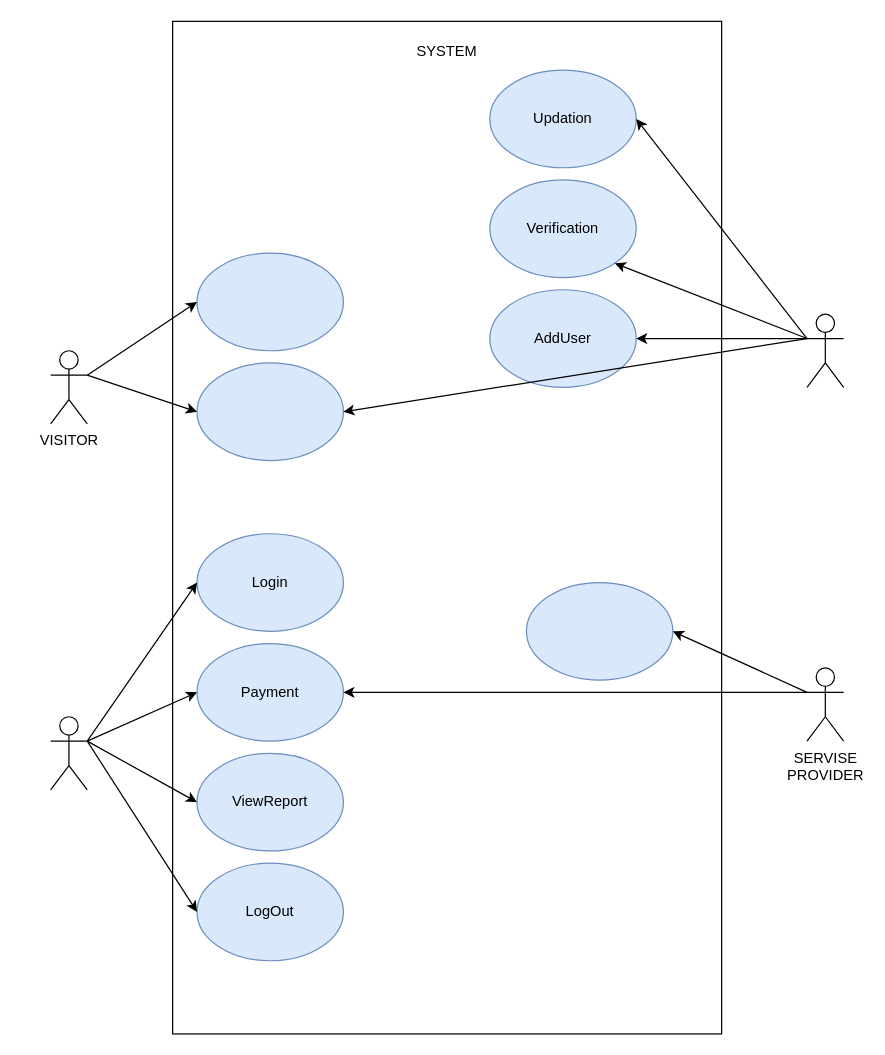
The diagram is 885 pixels wide and 1055 high, and some of its shapes have lost their labels. Here are the shapes that lost their labels. From the top down, the box of each, then its label:
(196, 252, 343, 351): Visit
(806, 313, 844, 387): ADMIN
(196, 362, 343, 461): Register
(525, 581, 673, 680): Transection Report
(49, 716, 87, 790): REGISTERED USER
